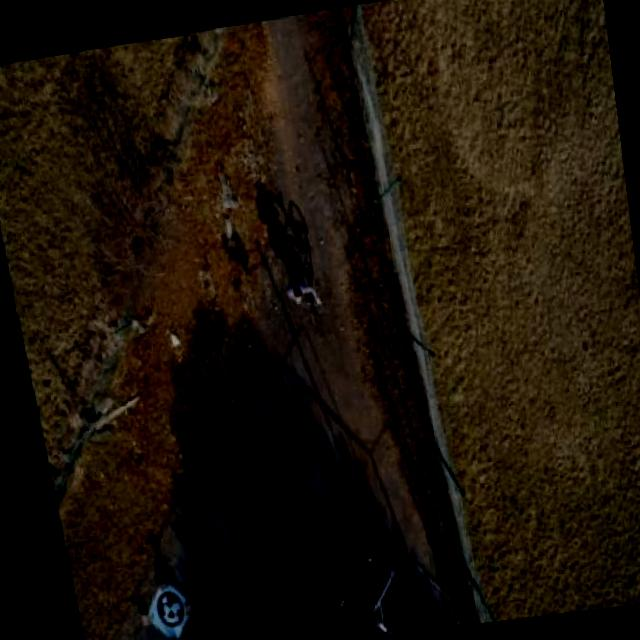Person: (274, 266, 329, 312)
